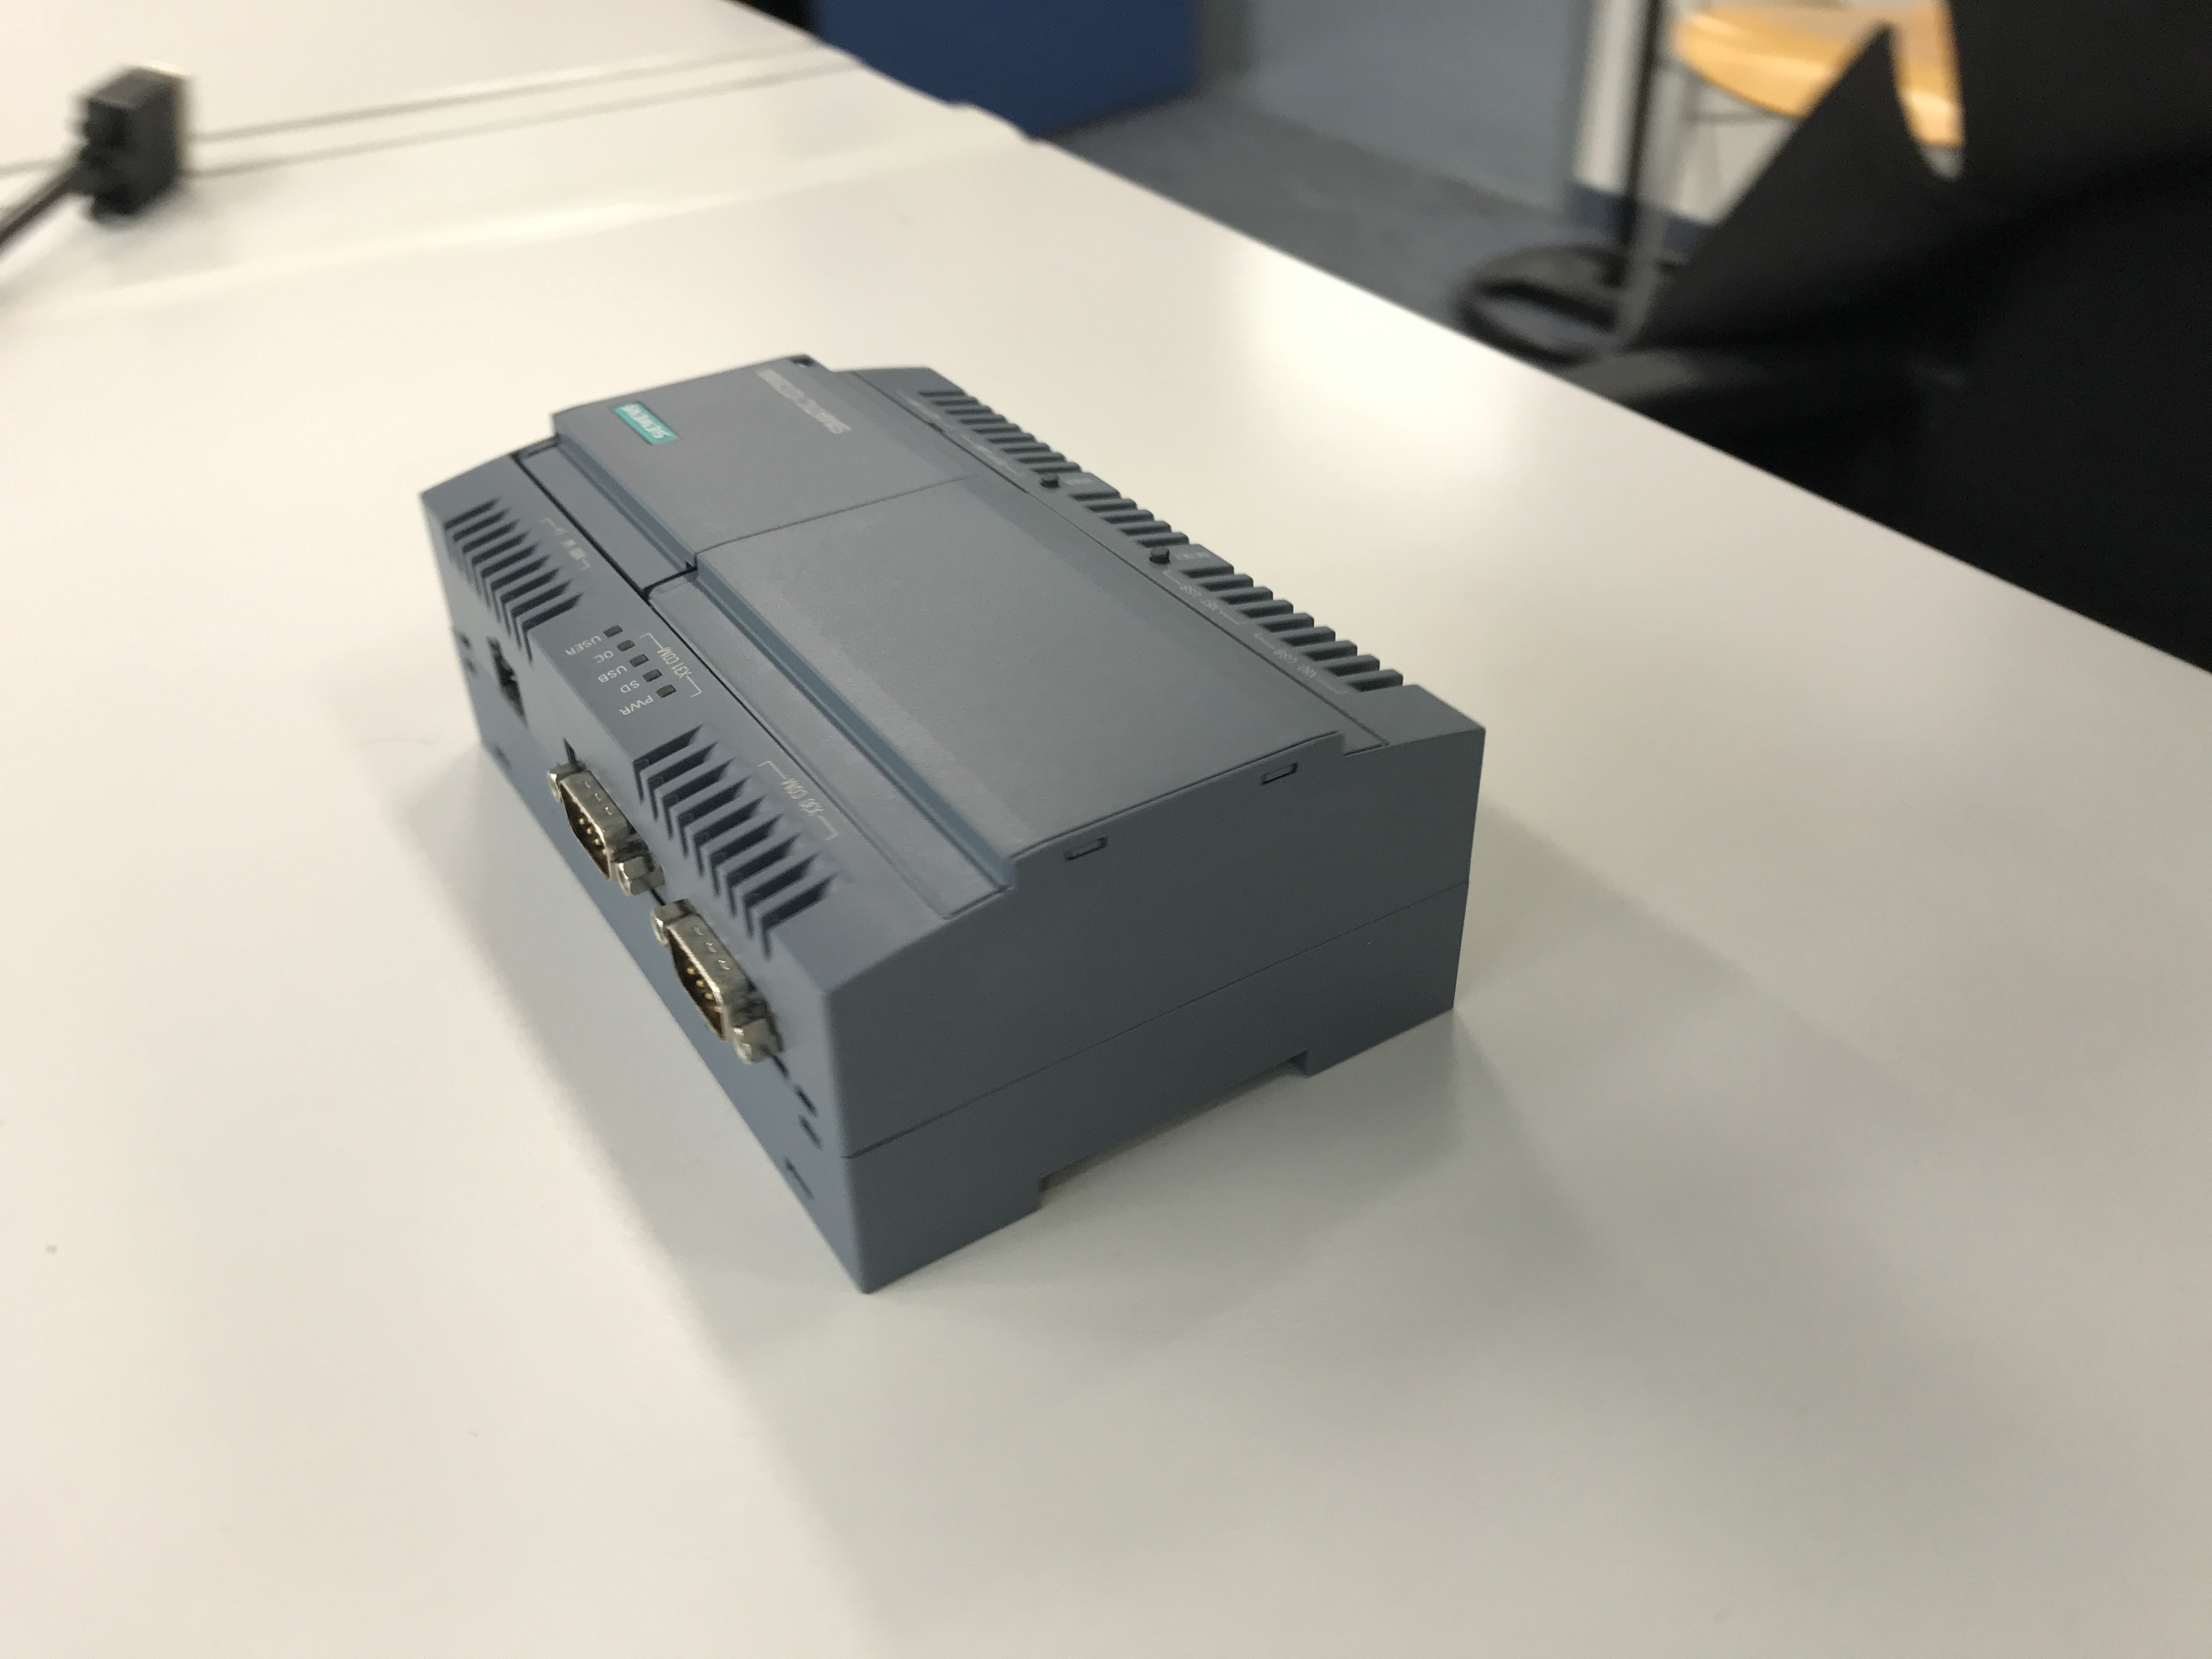device: (418, 352, 1487, 1297)
